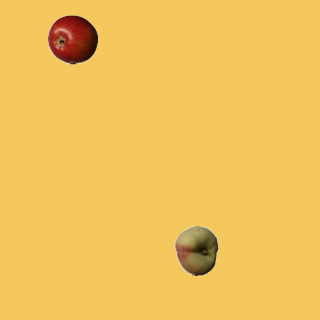Apple Braeburn: (47, 14, 97, 64)
Peach Flat: (171, 225, 221, 275)
